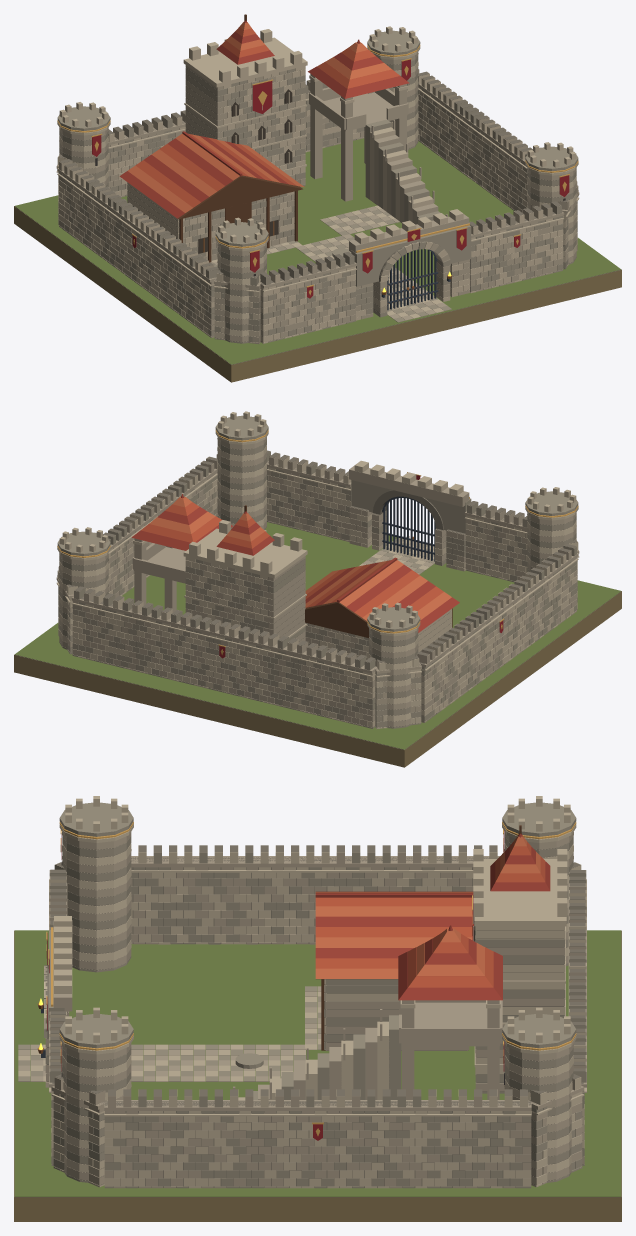
Rendered from stockade-nivel-7.glb.
3 views of the same model, one above another, from view 1: azimuth 30°, elevation 25°; view 2: azimuth 150°, elevation 25°; view 3: azimuth 270°, elevation 25° (orthographic). The views are drawn at different scales.
Visible parts, largest first — view 1: stone_7_c3b49a, stone_7_b1a38d, stone_7_a09682, stone_7_738449, stone_7_8d7955, stone_7_82796a, stone_7_9e4235, stone_7_c66c49, stone_7_b9583c, stone_7_63422c, stone_7_992b31, stone_7_dba85a (+3 smaller); view 2: stone_7_c3b49a, stone_7_b1a38d, stone_7_a09682, stone_7_738449, stone_7_8d7955, stone_7_82796a, stone_7_9e4235, stone_7_c66c49, stone_7_b9583c, stone_7_63422c, right_7_3a424d.001, left_7_3a424d.001 (+1 smaller); view 3: stone_7_c3b49a, stone_7_b1a38d, stone_7_738449, stone_7_a09682, stone_7_82796a, stone_7_8d7955, stone_7_9e4235, stone_7_b9583c, stone_7_c66c49, stone_7_dba85a.
Boxes of the visible parts, x1,y1,x2,y2 form: stone_7_c3b49a: (56,26,579,343); stone_7_b1a38d: (56,52,579,344); stone_7_a09682: (57,30,578,343); stone_7_738449: (15,138,620,364); stone_7_8d7955: (14,206,621,382); stone_7_82796a: (14,64,621,364); stone_7_9e4235: (119,20,409,218); stone_7_c66c49: (128,22,391,212); stone_7_b9583c: (135,27,399,207); stone_7_63422c: (178,175,302,262); stone_7_992b31: (92,59,569,298); stone_7_dba85a: (57,45,578,295); stone_7_c3b49a: (56,411,579,728); stone_7_b1a38d: (56,437,579,726); stone_7_a09682: (57,415,578,728); stone_7_738449: (15,522,620,749); stone_7_8d7955: (14,591,621,767); stone_7_82796a: (14,446,621,749); stone_7_9e4235: (132,494,459,632); stone_7_c66c49: (149,496,451,620); stone_7_b9583c: (141,502,443,617); stone_7_63422c: (305,602,452,637); right_7_3a424d.001: (382,496,410,554); left_7_3a424d.001: (409,498,435,561); stone_7_c3b49a: (18,796,586,1188); stone_7_b1a38d: (18,832,586,1188); stone_7_738449: (14,930,621,1196); stone_7_a09682: (18,802,586,1188); stone_7_82796a: (14,844,621,1197); stone_7_8d7955: (14,931,621,1221); stone_7_9e4235: (315,833,550,1000); stone_7_b9583c: (315,841,545,987); stone_7_c66c49: (315,835,540,978); stone_7_dba85a: (46,822,576,1135).
Size of the model in its own units: 32.8 by 15.06 by 31.6.
